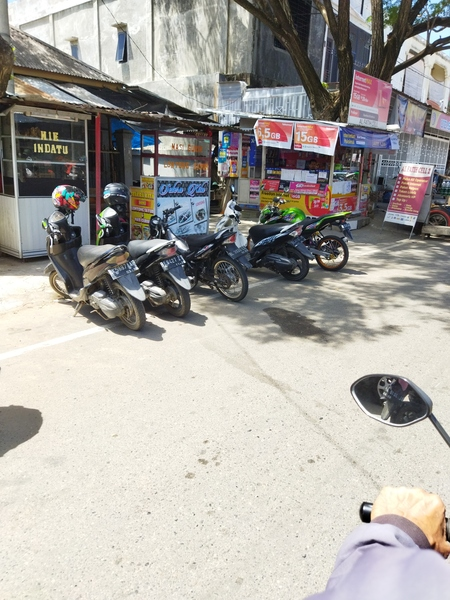motorcycle: (40, 204, 151, 336), (91, 202, 198, 322), (146, 202, 251, 308), (214, 199, 319, 285), (259, 195, 356, 275)
